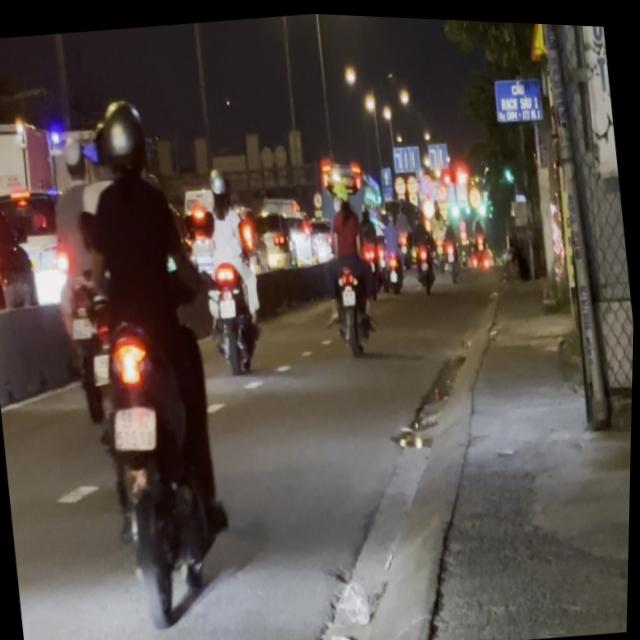helmet: (91, 91, 150, 180)
licenseplate: (47, 80, 259, 640)
nohelmet: (111, 401, 160, 452)
